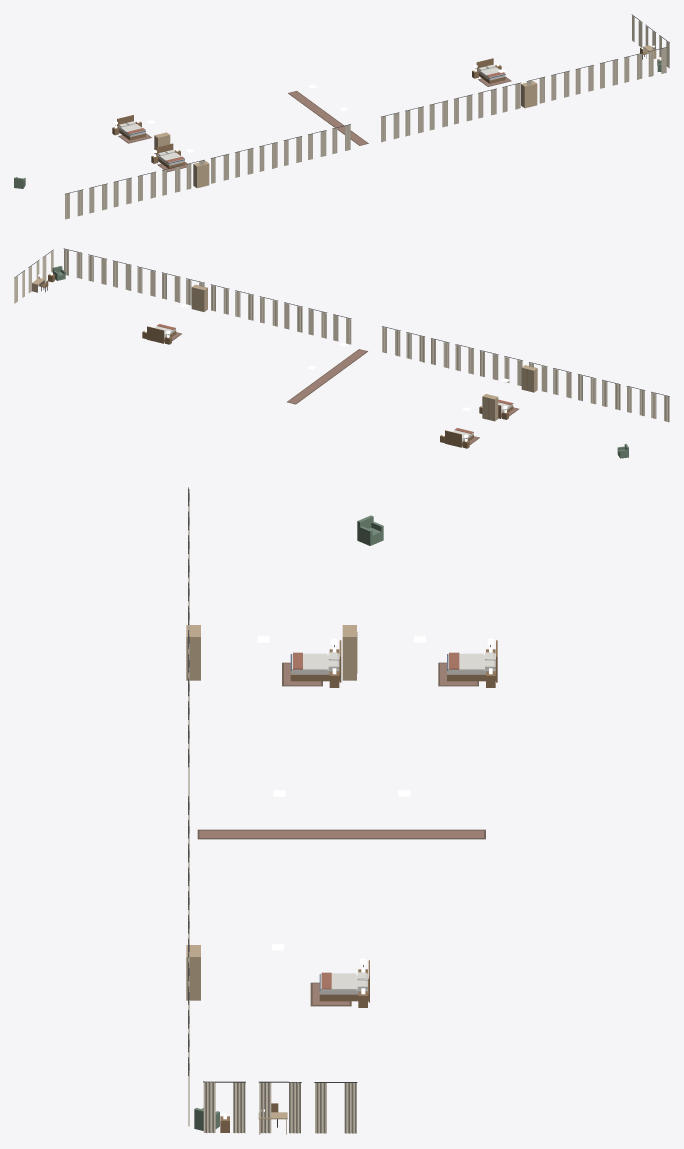
Rendered from fine-s1.glb.
3 renders of one model, top to bottom at view 1: azimuth 30°, elevation 25°; view 2: azimuth 150°, elevation 25°; view 3: azimuth 270°, elevation 25°, orthographic. The views are drawn at different scales.
Visible parts, largest first — view 1: soft-s1, dresser.002, dresser.000; view 2: soft-s1, dresser.001, dresser.002, dresser.000; view 3: soft-s1.
Boxes of the visible parts, x1=… form: soft-s1: x1=65, y1=14, x2=669, y2=219; dresser.002: x1=193, y1=161, x2=209, y2=188; dresser.000: x1=521, y1=81, x2=537, y2=108; soft-s1: x1=14, y1=248, x2=669, y2=444; dresser.001: x1=482, y1=394, x2=498, y2=421; dresser.002: x1=521, y1=365, x2=537, y2=392; dresser.000: x1=191, y1=284, x2=207, y2=311; soft-s1: x1=188, y1=487, x2=494, y2=1133.
Size of the model in its own units: 59 by 2.41 by 12.93.
